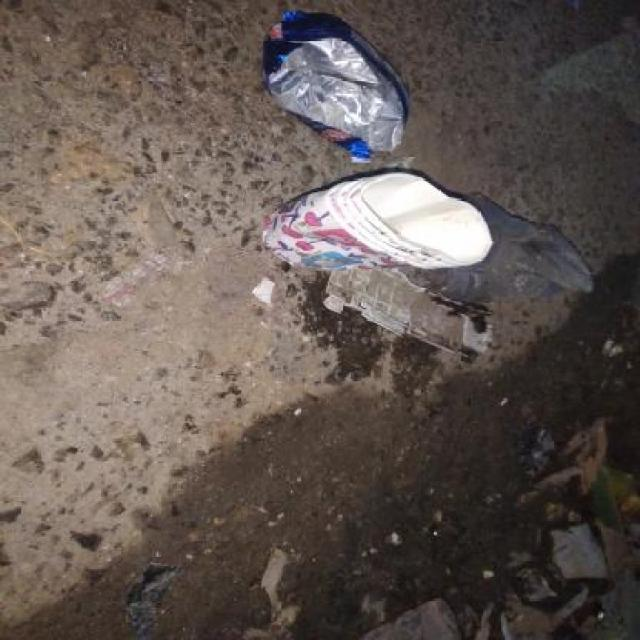garbage: (253, 157, 556, 384), (245, 9, 438, 158)
